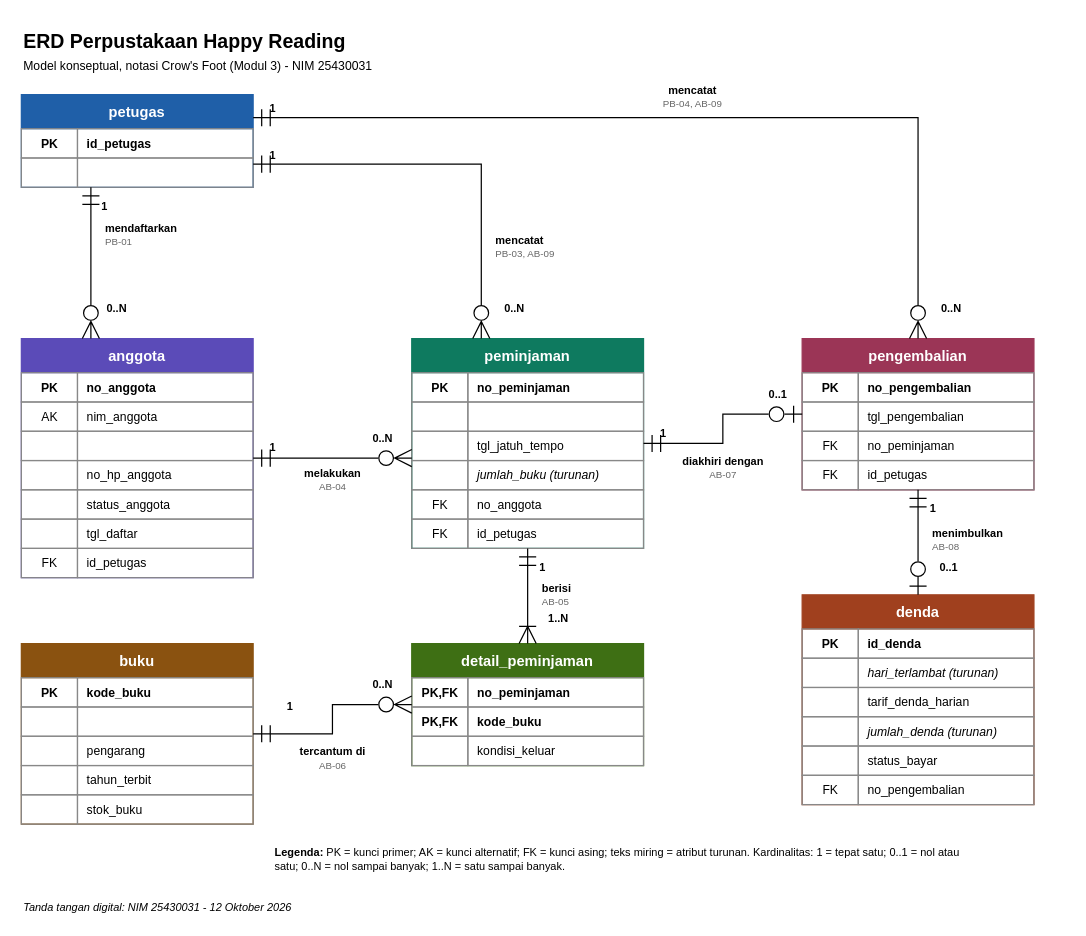
Some shapes in this 1086 by 936 pixel diagram are drawn without their labels. Here are the shapes that lost their labels. From the top down, the centre of each, then its label:
At point (164, 172): "nama_petugas".
At point (555, 416): "tgl_peminjaman".
At point (164, 445): "nama_anggota".
At point (164, 721): "judul_buku".
